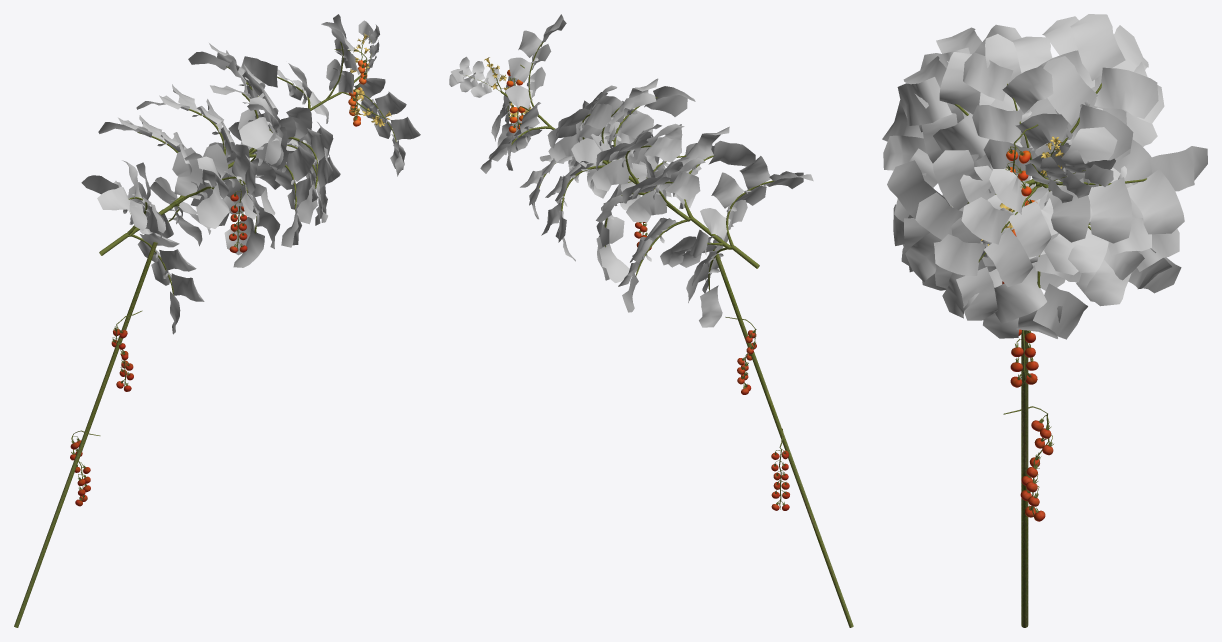
File: tomato_vine_repo_v1.dae
3 renders of one model, left to right at view 1: azimuth 30°, elevation 25°; view 2: azimuth 150°, elevation 25°; view 3: azimuth 270°, elevation 25°, orthographic. The views are drawn at different scales.
Parts seen in each view (by area): view 1: Leaf1, Branch1, Sphere.001; view 2: Leaf1, Branch1, Sphere.001; view 3: Leaf1, Branch1, Sphere.001, Sphere.037.
Part boxes in pixels (bbox=[...]): Leaf1: bbox=[81, 14, 420, 334]; Branch1: bbox=[14, 39, 396, 627]; Sphere.001: bbox=[70, 194, 247, 506]; Leaf1: bbox=[449, 14, 813, 327]; Branch1: bbox=[466, 42, 853, 627]; Sphere.001: bbox=[634, 192, 789, 510]; Leaf1: bbox=[882, 14, 1207, 339]; Branch1: bbox=[951, 83, 1146, 627]; Sphere.001: bbox=[1002, 281, 1053, 521]; Sphere.037: bbox=[1006, 150, 1036, 236].
Size of the model in its own units: 1.74 by 0.85 by 2.35.
